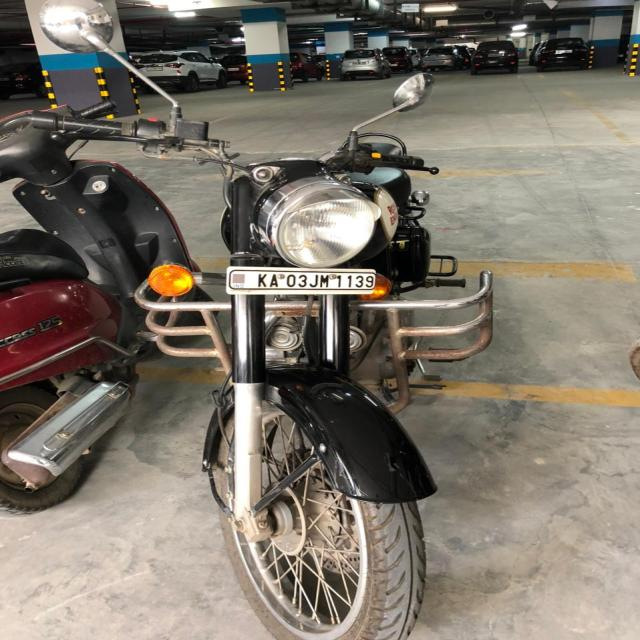number plate: (225, 267, 377, 294)
